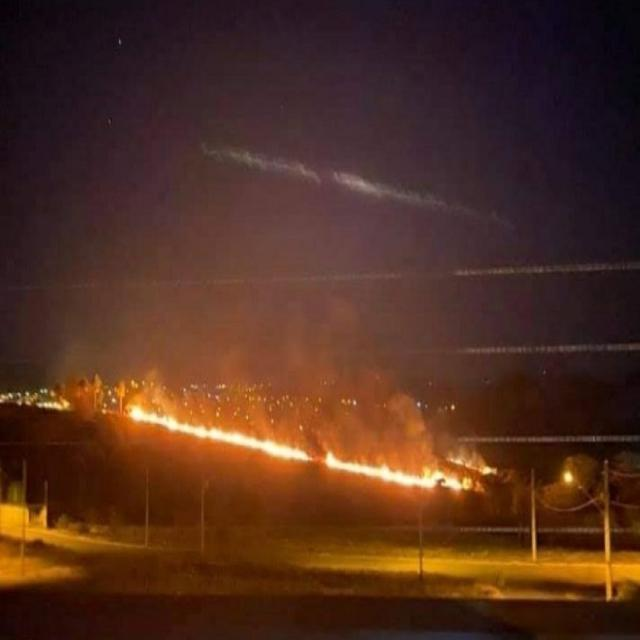Fire: (130, 404, 310, 460), (326, 451, 464, 492)
Smoke: (391, 390, 434, 462), (144, 362, 178, 413)
